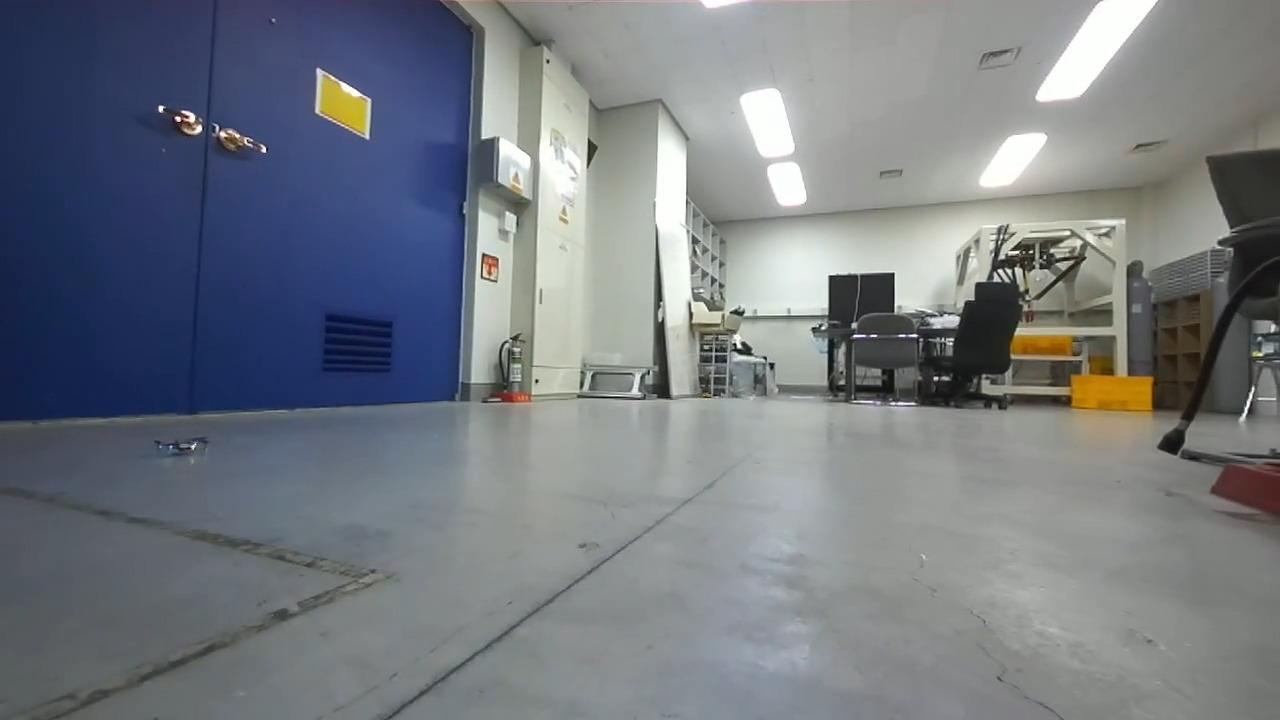crazyflie: (143, 429, 219, 461)
